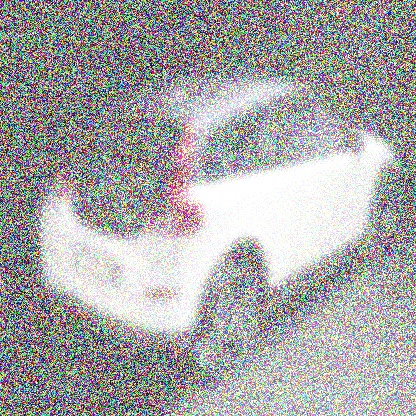Vehicle: (35, 67, 405, 378)
